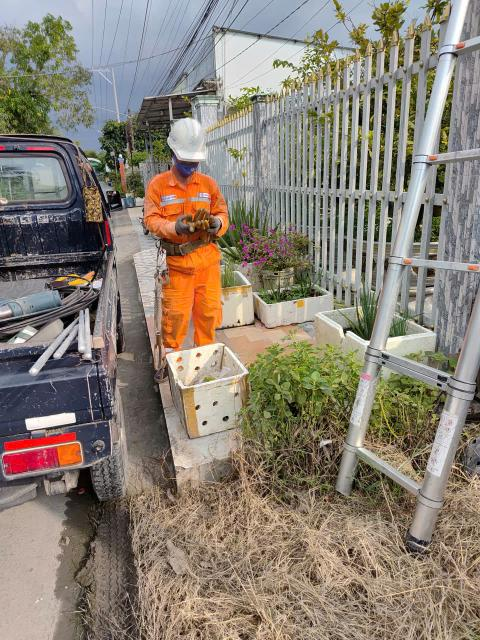gloves: (179, 205, 215, 238), (172, 215, 201, 238), (204, 211, 225, 237)
harness: (149, 233, 220, 261)
helmet: (162, 116, 212, 168)
shoes: (149, 351, 182, 386)
